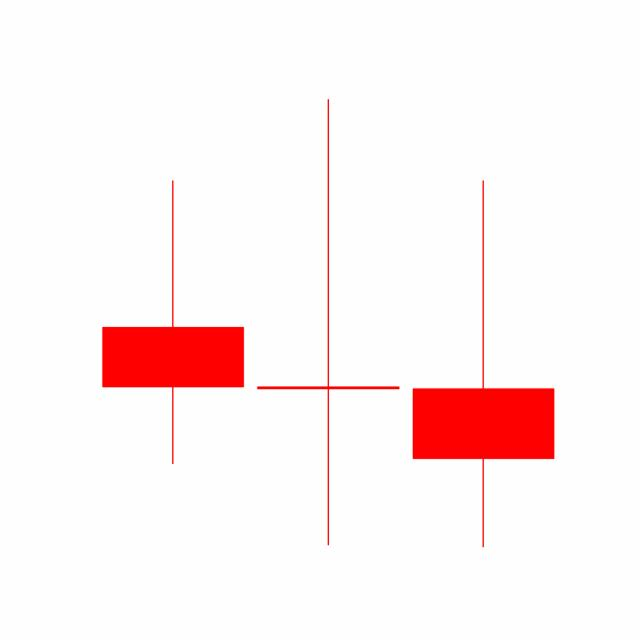Gravestone Doji: (405, 176, 561, 552)
